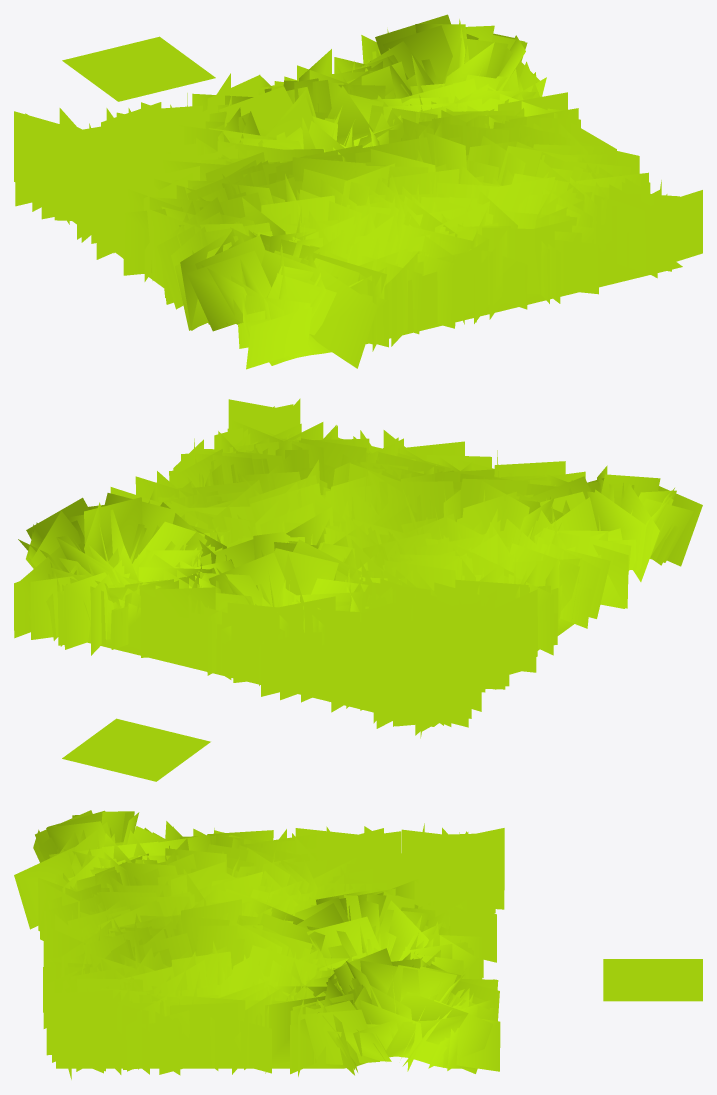
Rendered from Grass.fbx.
The picture shows the model from 3 angles, top to bottom: view 1: azimuth 30°, elevation 25°; view 2: azimuth 150°, elevation 25°; view 3: azimuth 270°, elevation 25°; orthographic projection. The views are drawn at different scales.
Parts seen in each view (by area): view 1: Strands.001, Strands, Ground; view 2: Strands.001, Strands, Ground; view 3: Strands.001, Strands, Ground.
Part boxes in pixels (x1,y1,x2,y2): Strands.001: (14, 14, 702, 369); Strands: (62, 36, 215, 101); Ground: (72, 221, 682, 365); Strands.001: (14, 398, 702, 738); Strands: (62, 718, 210, 781); Ground: (87, 603, 601, 726); Strands.001: (14, 810, 504, 1079); Strands: (603, 959, 702, 1001); Ground: (56, 1054, 474, 1068).
Size of the model in its own units: 1015 by 223 by 1382.
